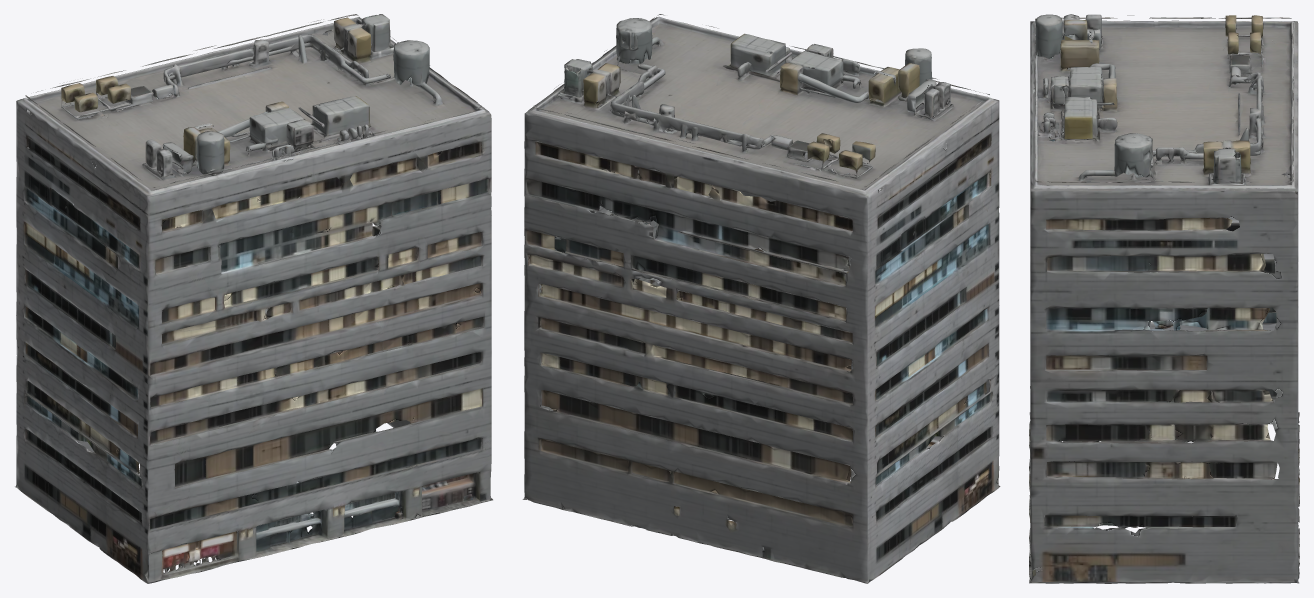
File: city_office_a.0.glb
3 renders of one model, left to right at view 1: azimuth 30°, elevation 25°; view 2: azimuth 150°, elevation 25°; view 3: azimuth 270°, elevation 25°, orthographic.
Visible parts, largest first — view 1: geometry_0; view 2: geometry_0; view 3: geometry_0.
Boxes of the visible parts, <box> form: geometry_0: <box>15,14,492,583</box>; geometry_0: <box>522,14,1000,583</box>; geometry_0: <box>1029,14,1299,583</box>.
Size of the model in its own units: 0.8471 by 0.9952 by 0.566.
Materials: 1 (1 with a texture image).
